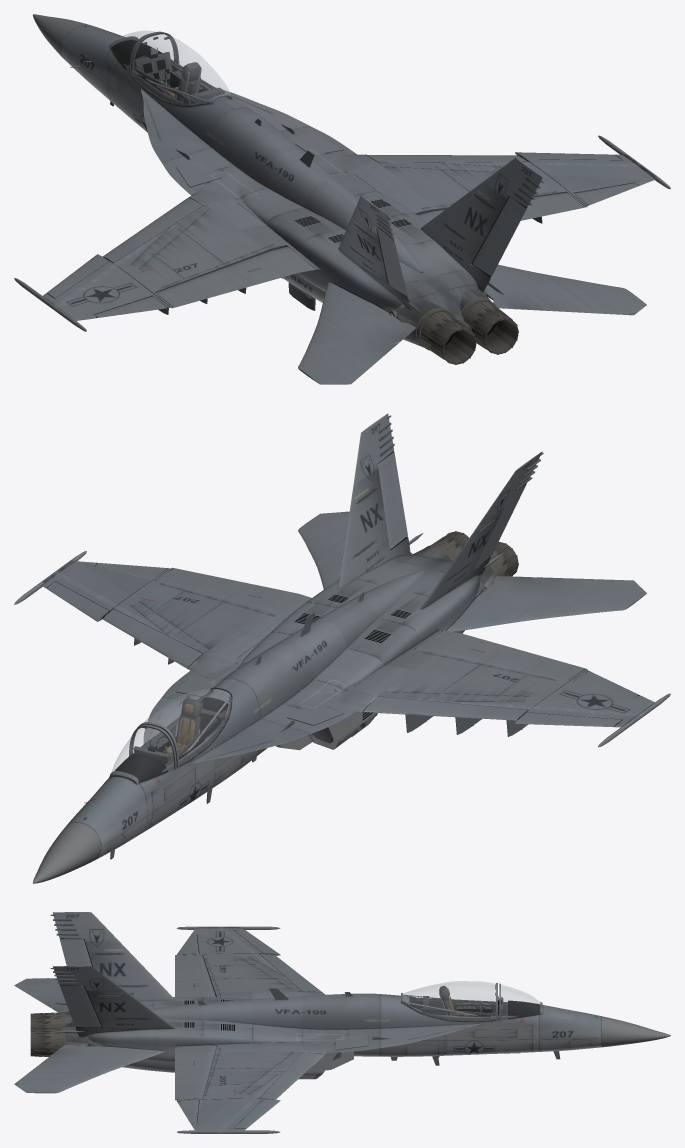
The picture shows the model from 3 angles, top to bottom: view 1: azimuth 30°, elevation 25°; view 2: azimuth 150°, elevation 25°; view 3: azimuth 270°, elevation 25°; orthographic projection. The views are drawn at different scales.
Parts seen in each view (by area): view 1: F18_skin, stab_l, fin_r, stab_r, canopy_glass, flap_l, fold_l, fold_r, cockpit_int, fin_l, nozzle_l, slat_l (+11 smaller); view 2: F18_skin, stab_l, fin_r, canopy_glass, fold_l, cockpit_int, flap_l, slat_l, fold_r, flap_r, fin_l, slat_r (+7 smaller); view 3: F18_skin, fin_l, stab_r, fin_r, canopy_glass, fold_r, flap_r, cockpit_int, fold_l, slat_r, flap_l, rudder_r (+10 smaller).
Part boxes in pixels (<box>): F18_skin: <box>33,14,587,347</box>; stab_l: <box>298,282,415,384</box>; fin_r: <box>420,157,542,292</box>; stab_r: <box>485,264,646,315</box>; canopy_glass: <box>133,34,230,104</box>; flap_l: <box>156,246,315,307</box>; fold_l: <box>14,261,170,331</box>; fold_r: <box>526,135,670,205</box>; cockpit_int: <box>110,40,224,103</box>; fin_l: <box>338,195,410,309</box>; nozzle_l: <box>417,308,476,364</box>; slat_l: <box>46,197,202,298</box>; F18_skin: <box>33,547,587,883</box>; stab_l: <box>447,576,646,631</box>; fin_r: <box>338,413,410,589</box>; canopy_glass: <box>134,689,230,763</box>; fold_l: <box>526,670,670,747</box>; cockpit_int: <box>114,698,226,783</box>; flap_l: <box>415,630,585,681</box>; slat_l: <box>363,696,621,727</box>; fold_r: <box>14,551,170,612</box>; flap_r: <box>156,568,311,618</box>; fin_l: <box>421,451,542,609</box>; slat_r: <box>46,581,202,668</box>; F18_skin: <box>64,953,670,1100</box>; fin_l: <box>52,912,174,1001</box>; stab_r: <box>14,1045,164,1093</box>; fin_r: <box>52,966,174,1036</box>; canopy_glass: <box>403,981,495,1020</box>; fold_r: <box>176,1098,279,1133</box>; flap_r: <box>175,1046,216,1099</box>; cockpit_int: <box>416,985,540,1019</box>; fold_l: <box>176,926,280,954</box>; slat_r: <box>234,1052,323,1128</box>; flap_l: <box>175,955,215,997</box>; rudder_r: <box>60,985,101,1027</box>.
Size of the model in its own units: 13.7 by 3.91 by 18.54.
Materials: 2 (1 with a texture image).
